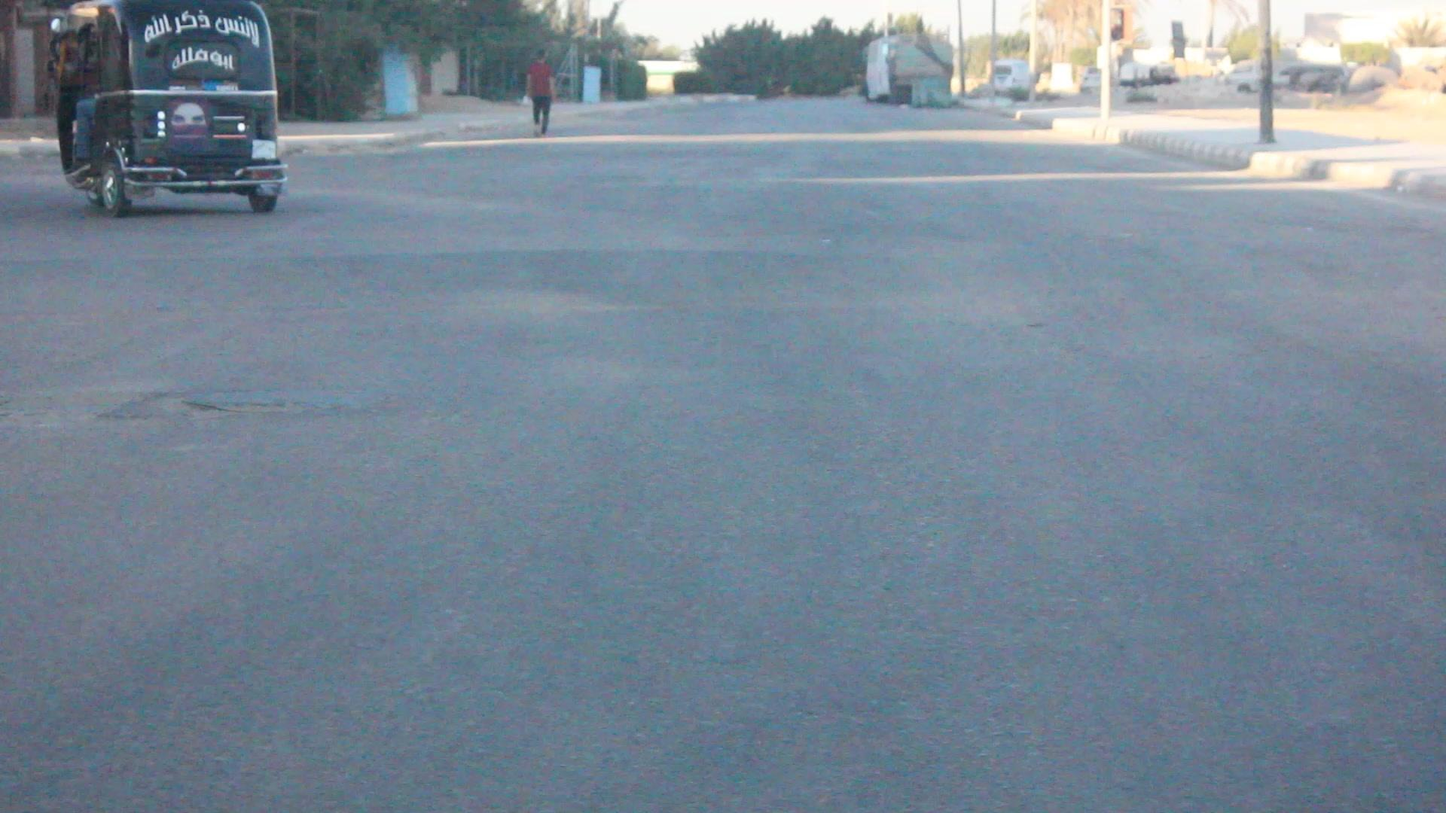Bump: (4, 247, 1446, 316)
